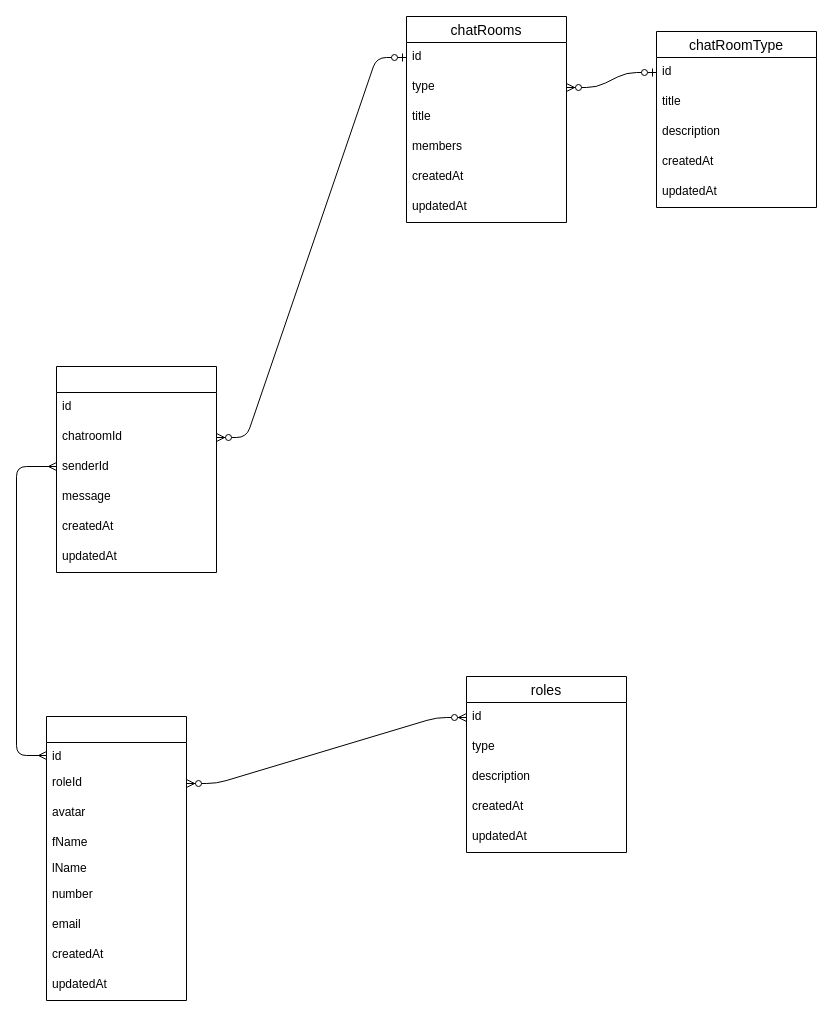
The diagram is 833 pixels wide and 1017 high, and some of its shapes have lost their labels. Each missing label, with the box of its shape:
chats: (56, 366, 216, 572)
users: (46, 716, 186, 1000)
